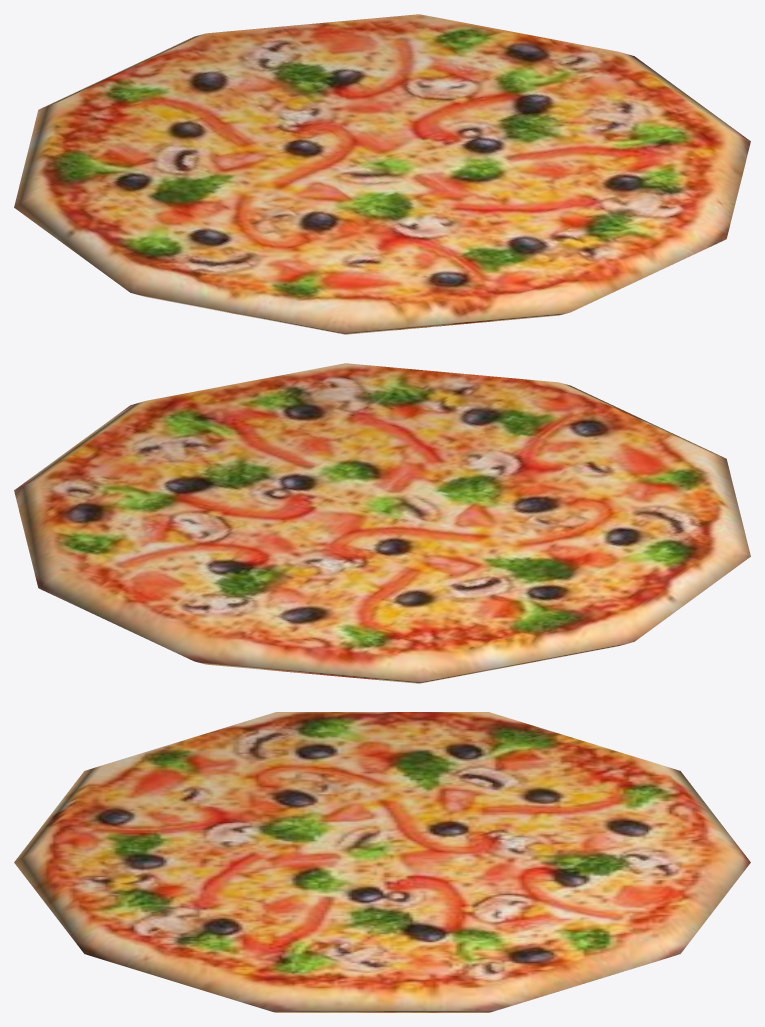
Rendered from pizzaHp.glb.
3 renders of one model, top to bottom at view 1: azimuth 30°, elevation 25°; view 2: azimuth 150°, elevation 25°; view 3: azimuth 270°, elevation 25°, orthographic. The views are drawn at different scales.
Parts seen in each view (by area): view 1: Cylinder.059; view 2: Cylinder.059; view 3: Cylinder.059.
Part boxes in pixels (x1=…): Cylinder.059: x1=14, y1=14, x2=750, y2=334; Cylinder.059: x1=14, y1=363, x2=750, y2=683; Cylinder.059: x1=14, y1=712, x2=750, y2=1012.
Bounding box in the file's own units: 0.5162 × 0.0193 × 0.5428.
1 material, 1 textured.
